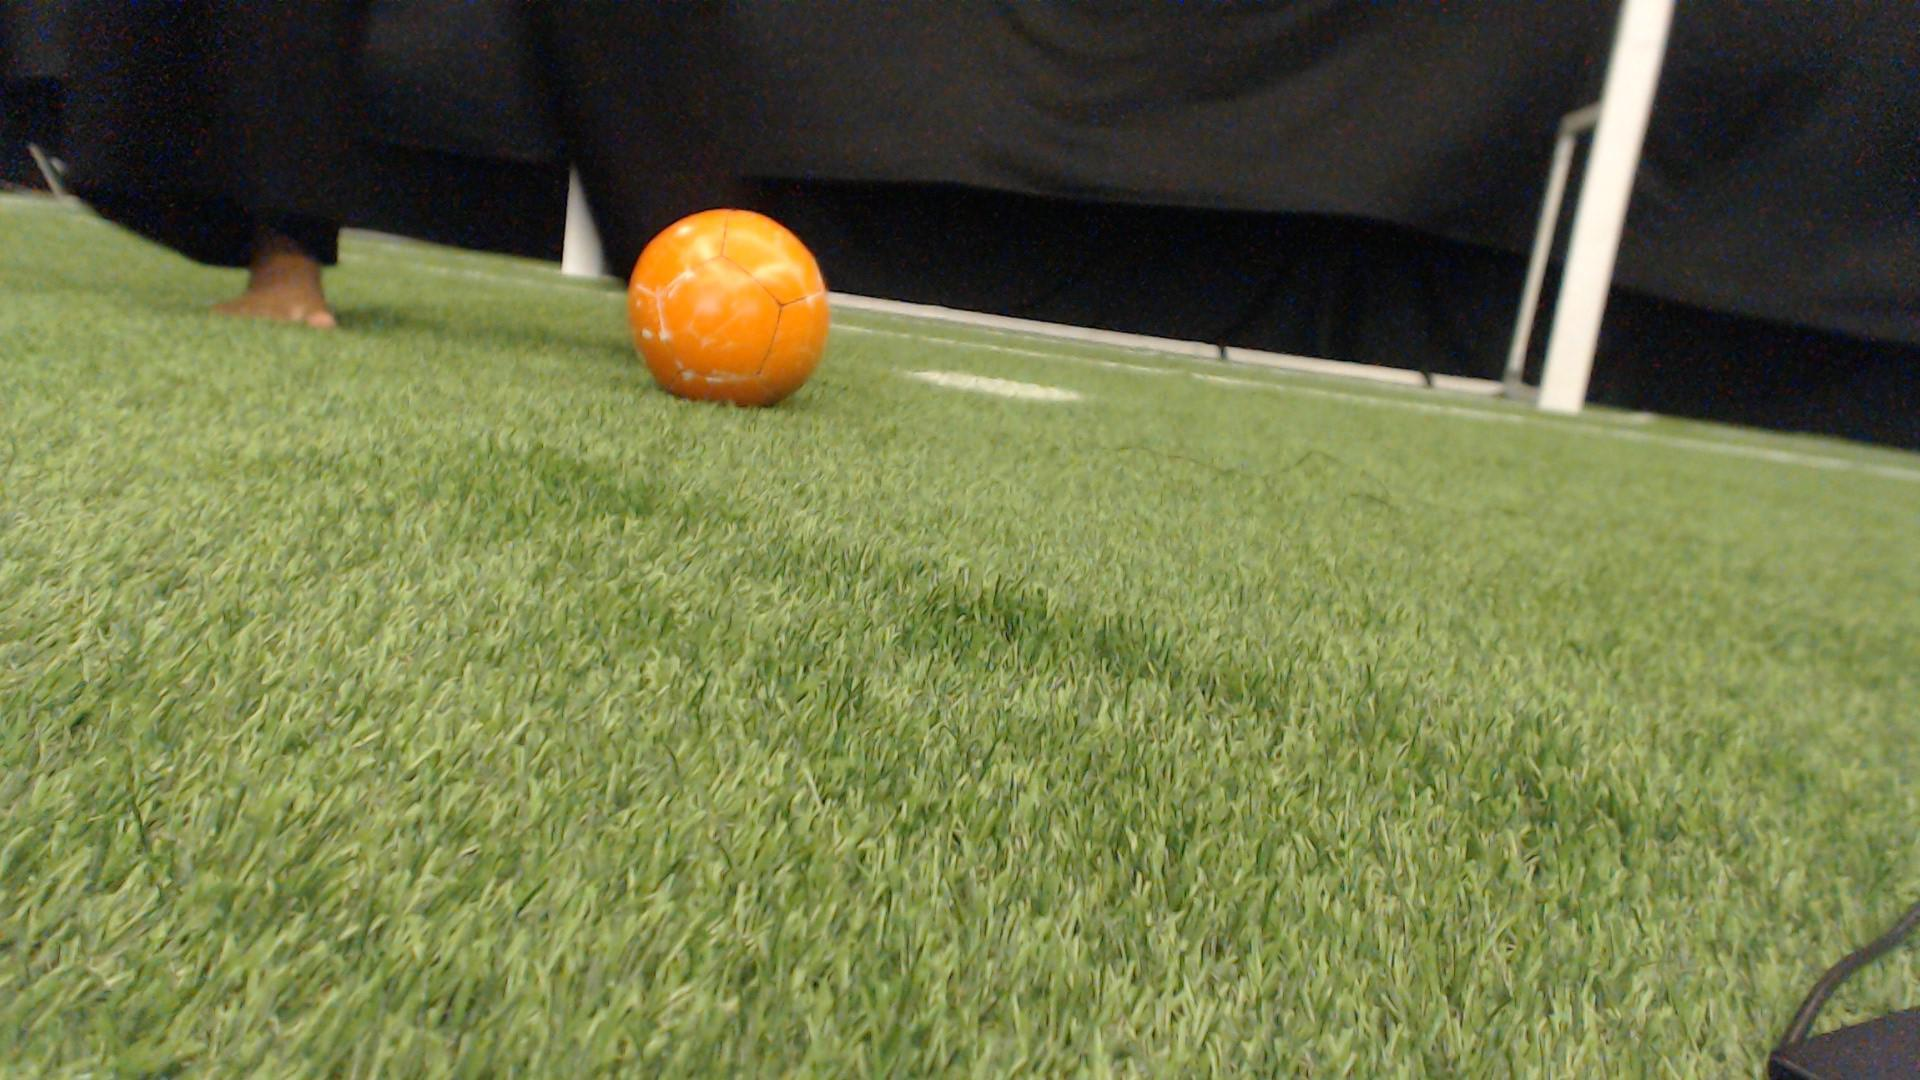bola: (611, 195, 855, 426)
